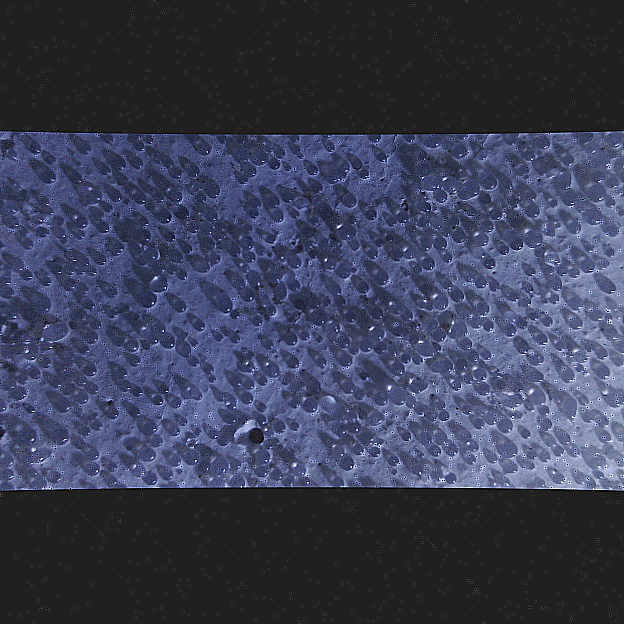GrassBeadSeg: (2, 200, 623, 466), (24, 142, 552, 429), (22, 133, 462, 465), (27, 177, 538, 460), (106, 133, 487, 485), (111, 158, 610, 426), (52, 191, 579, 444), (18, 191, 537, 443), (34, 133, 623, 351), (2, 180, 460, 460), (27, 160, 618, 375), (0, 266, 604, 476), (51, 258, 595, 483), (234, 150, 606, 478), (104, 136, 567, 394), (22, 168, 473, 432), (194, 158, 594, 447), (4, 159, 359, 470), (49, 155, 575, 363), (63, 175, 424, 475), (97, 193, 459, 484), (242, 166, 623, 442), (39, 280, 546, 468), (137, 230, 595, 436), (112, 277, 567, 484), (77, 176, 497, 393), (113, 190, 593, 379), (68, 173, 429, 416), (43, 134, 382, 390), (6, 310, 528, 476), (54, 152, 388, 409), (40, 174, 548, 342), (44, 155, 525, 330), (118, 179, 515, 391), (0, 276, 436, 468), (75, 270, 595, 425), (21, 235, 412, 440), (76, 139, 468, 339), (203, 211, 590, 406), (207, 196, 522, 431), (85, 194, 348, 475), (49, 299, 443, 481), (231, 244, 593, 439), (32, 259, 337, 490), (109, 194, 346, 486), (195, 166, 483, 402), (80, 343, 597, 472), (120, 333, 609, 469), (84, 286, 481, 453), (139, 209, 378, 485), (4, 217, 453, 363), (180, 133, 417, 406), (63, 265, 348, 485), (2, 246, 268, 480), (10, 252, 454, 392), (98, 222, 463, 390), (100, 250, 450, 422), (307, 150, 575, 374), (175, 207, 472, 409), (352, 237, 611, 460), (105, 204, 524, 341), (247, 212, 577, 383), (244, 251, 620, 401), (138, 289, 456, 462), (36, 149, 497, 268), (155, 238, 609, 358), (176, 142, 337, 476), (84, 230, 493, 361), (177, 219, 391, 464), (105, 279, 477, 419), (189, 211, 522, 366), (274, 283, 615, 433), (239, 211, 503, 403), (241, 133, 531, 307), (74, 225, 358, 398), (40, 155, 269, 368), (291, 267, 603, 423), (27, 210, 267, 411), (423, 172, 605, 434), (65, 158, 281, 378), (388, 222, 580, 467), (184, 212, 367, 465), (89, 195, 281, 432), (230, 216, 397, 486), (91, 321, 494, 430), (110, 217, 581, 310), (335, 162, 480, 455), (28, 142, 495, 232), (265, 234, 468, 437), (214, 233, 417, 422), (60, 165, 202, 428), (41, 323, 293, 471), (229, 137, 549, 248), (74, 313, 361, 433), (153, 195, 270, 487), (106, 193, 359, 324), (82, 141, 202, 417), (40, 165, 324, 280), (439, 211, 603, 404), (306, 252, 545, 383), (165, 231, 357, 394), (149, 335, 432, 445), (85, 355, 379, 460), (370, 248, 532, 438), (0, 194, 295, 298), (169, 354, 411, 480), (48, 165, 144, 482), (75, 262, 440, 345), (169, 397, 610, 464), (15, 226, 215, 373), (139, 294, 329, 444), (166, 212, 413, 325), (96, 267, 229, 475), (241, 221, 583, 301), (287, 256, 584, 348), (229, 230, 468, 344), (364, 206, 583, 330), (302, 277, 488, 413), (360, 257, 503, 427), (435, 281, 622, 411), (150, 276, 474, 351), (42, 169, 503, 221), (78, 142, 483, 200), (160, 381, 385, 481), (83, 332, 463, 391), (128, 339, 285, 479), (366, 191, 447, 455), (241, 210, 477, 300), (82, 365, 386, 433), (265, 140, 552, 208), (390, 283, 536, 411), (458, 328, 621, 442), (254, 249, 482, 328), (72, 230, 239, 337), (499, 178, 621, 321), (22, 300, 281, 365), (74, 218, 163, 406), (42, 135, 273, 206), (154, 168, 371, 243), (172, 303, 331, 404), (352, 242, 442, 420), (67, 361, 424, 404), (28, 382, 189, 476), (75, 251, 424, 294), (196, 141, 300, 285), (575, 153, 617, 485), (137, 193, 580, 223), (328, 230, 533, 294), (506, 186, 620, 301), (87, 267, 147, 477), (140, 217, 215, 382), (207, 405, 551, 439), (425, 137, 533, 245), (479, 220, 541, 408), (246, 273, 387, 355), (453, 144, 537, 276), (404, 198, 616, 250), (9, 190, 130, 279), (230, 338, 308, 476), (266, 419, 497, 464), (278, 340, 390, 429), (9, 151, 82, 279), (294, 381, 522, 421), (339, 325, 547, 368), (450, 205, 542, 302), (216, 233, 411, 276), (204, 222, 341, 281), (477, 208, 606, 269), (390, 252, 447, 377), (182, 191, 294, 254), (185, 152, 269, 233), (286, 281, 363, 369), (96, 155, 163, 256), (165, 337, 242, 422), (543, 210, 623, 291), (230, 400, 371, 445), (262, 341, 454, 374), (257, 435, 374, 486), (503, 393, 581, 469), (339, 364, 394, 471), (539, 291, 621, 362), (143, 248, 232, 313), (509, 136, 617, 188), (177, 420, 276, 475), (458, 181, 494, 325), (530, 265, 586, 356), (149, 436, 612, 447), (550, 139, 623, 206), (227, 316, 278, 411), (373, 271, 483, 315), (210, 247, 241, 383), (190, 342, 255, 406), (310, 217, 403, 261), (279, 239, 340, 306), (329, 156, 442, 192), (153, 222, 189, 334), (475, 369, 519, 456), (89, 158, 174, 203), (418, 433, 571, 458), (145, 170, 199, 239), (333, 431, 475, 457), (0, 354, 63, 412), (240, 138, 328, 179), (123, 339, 159, 436), (419, 153, 475, 215), (477, 342, 529, 406), (372, 251, 414, 329), (273, 298, 306, 387), (289, 419, 513, 432), (220, 134, 303, 169), (274, 134, 309, 209), (448, 149, 480, 226), (300, 328, 385, 354), (403, 310, 444, 357), (163, 338, 215, 374), (29, 342, 76, 379), (529, 292, 559, 349), (408, 208, 475, 232), (332, 323, 375, 353), (405, 310, 419, 394), (10, 389, 91, 403), (544, 200, 559, 265), (56, 400, 110, 418), (257, 415, 284, 450), (335, 336, 383, 355), (507, 451, 544, 473), (236, 180, 262, 209), (482, 258, 493, 317), (234, 150, 286, 162), (555, 342, 565, 403), (476, 143, 511, 160), (331, 297, 346, 329), (540, 445, 564, 462), (432, 218, 452, 237), (513, 381, 525, 407), (528, 231, 544, 248), (350, 216, 358, 249), (594, 186, 608, 203), (266, 429, 280, 446), (430, 330, 446, 344), (436, 216, 453, 229), (174, 299, 188, 313), (241, 237, 256, 248), (435, 432, 448, 443), (16, 374, 28, 385), (477, 236, 489, 246), (80, 256, 90, 266)
